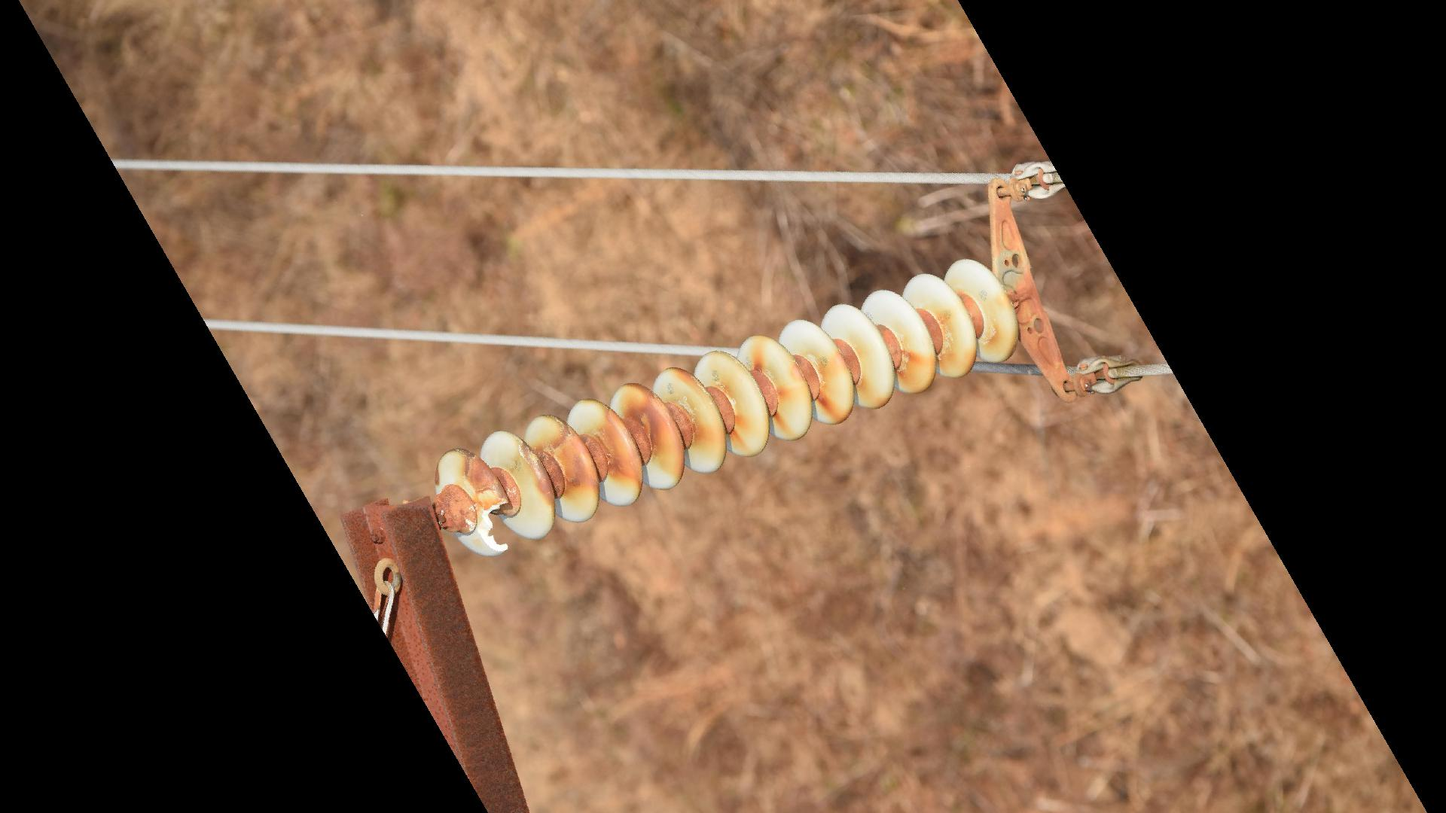insulator: (432, 248, 1027, 565)
insulator_breakage: (474, 492, 518, 560)
